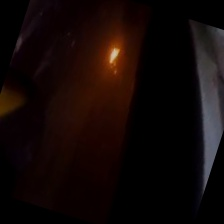fire: (99, 39, 128, 75)
